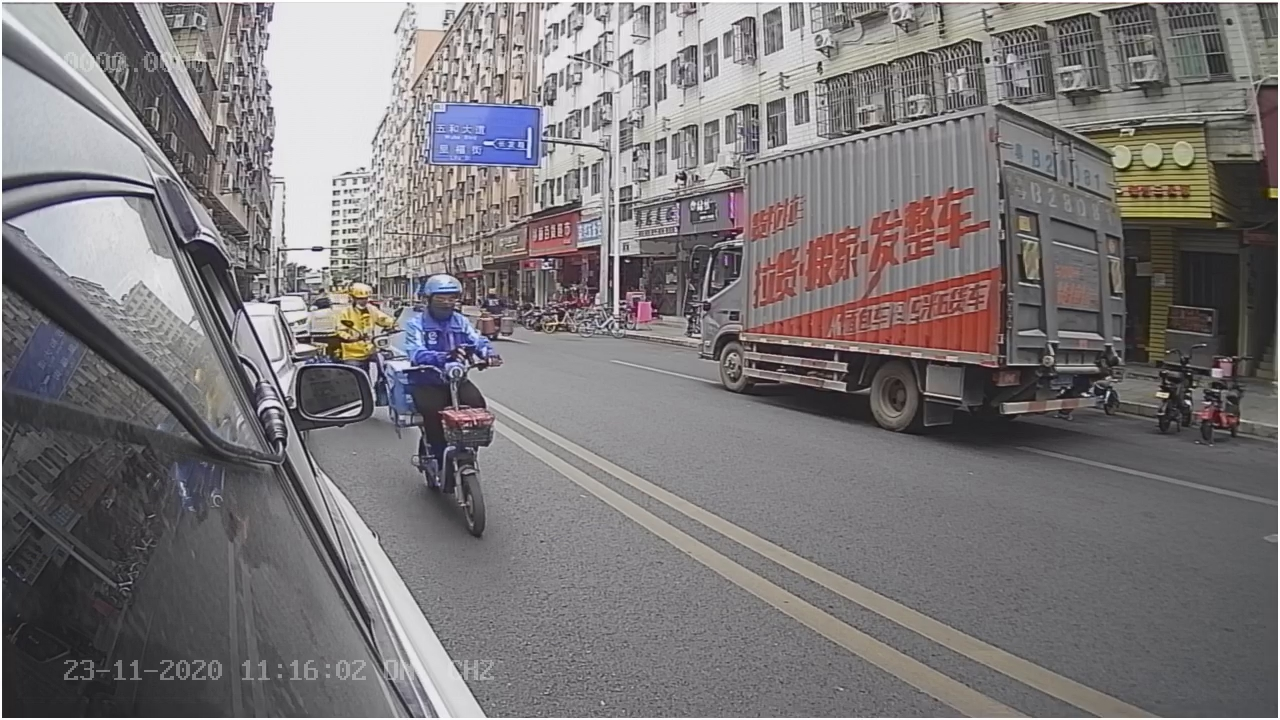person: (394, 268, 499, 341), (328, 280, 393, 355)
